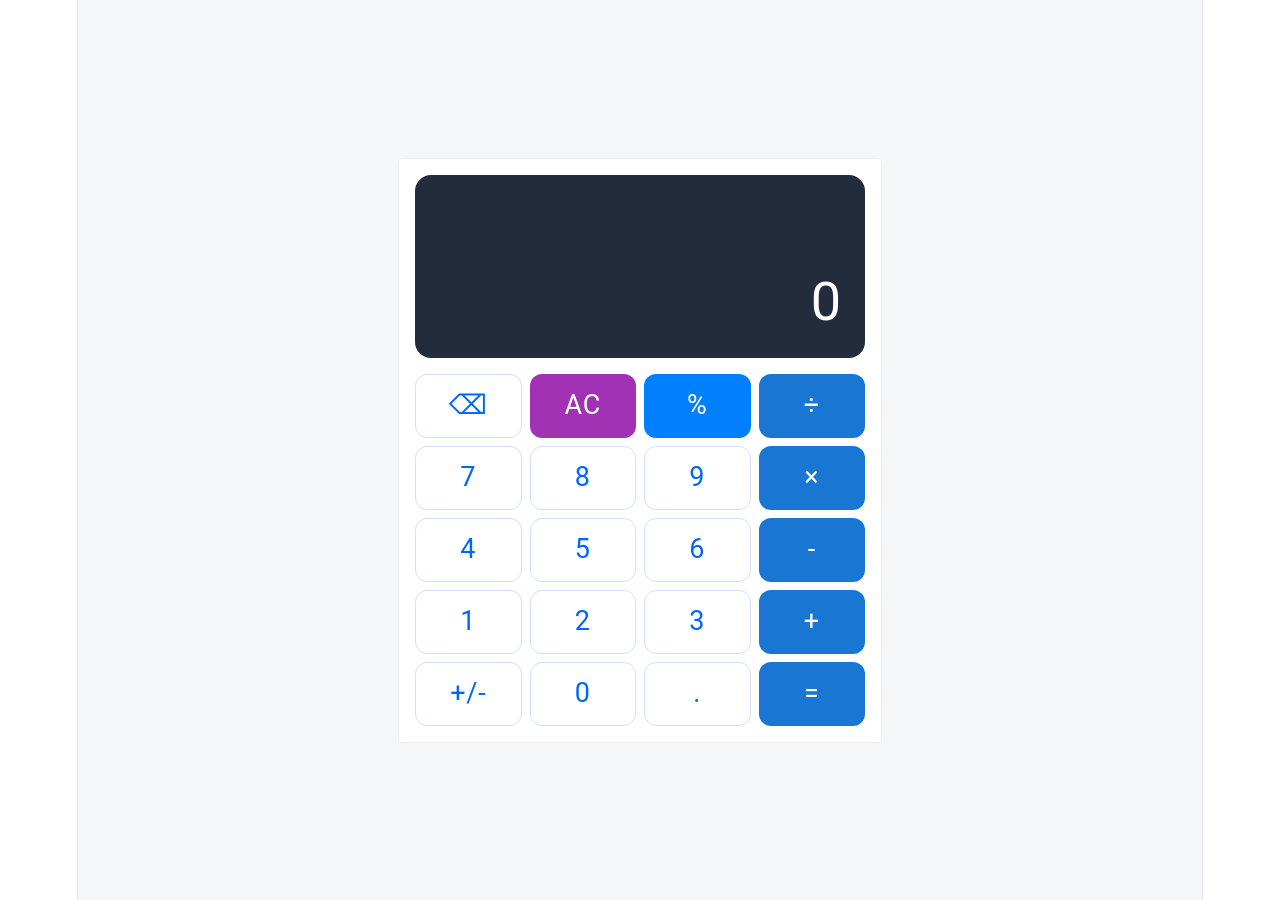
Test case: Calculator App › updates the display when numbers are clicked
Click the button "7" at (468, 478), box [415,446,522,510]
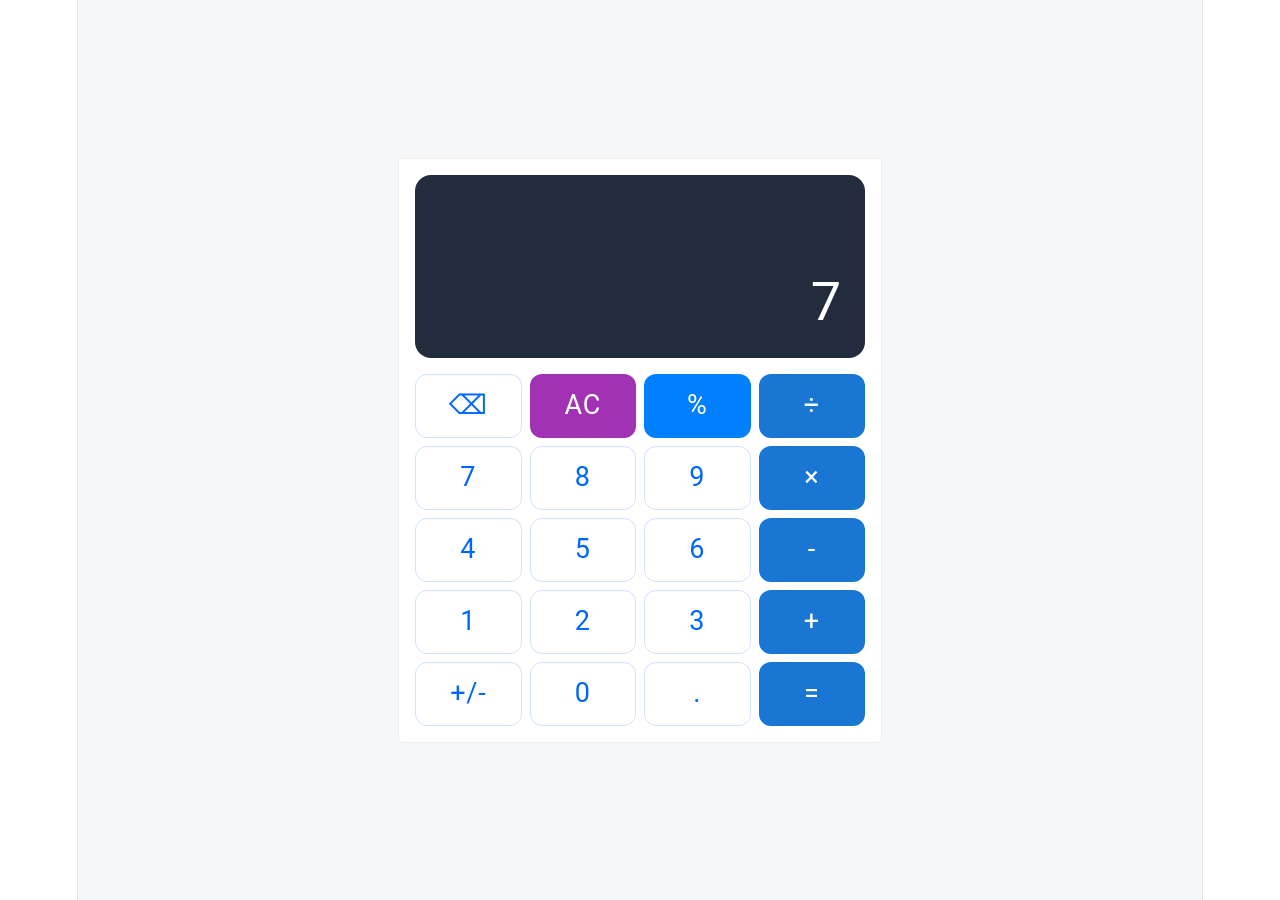
Click the button "8" at (583, 478), box [530,446,636,510]
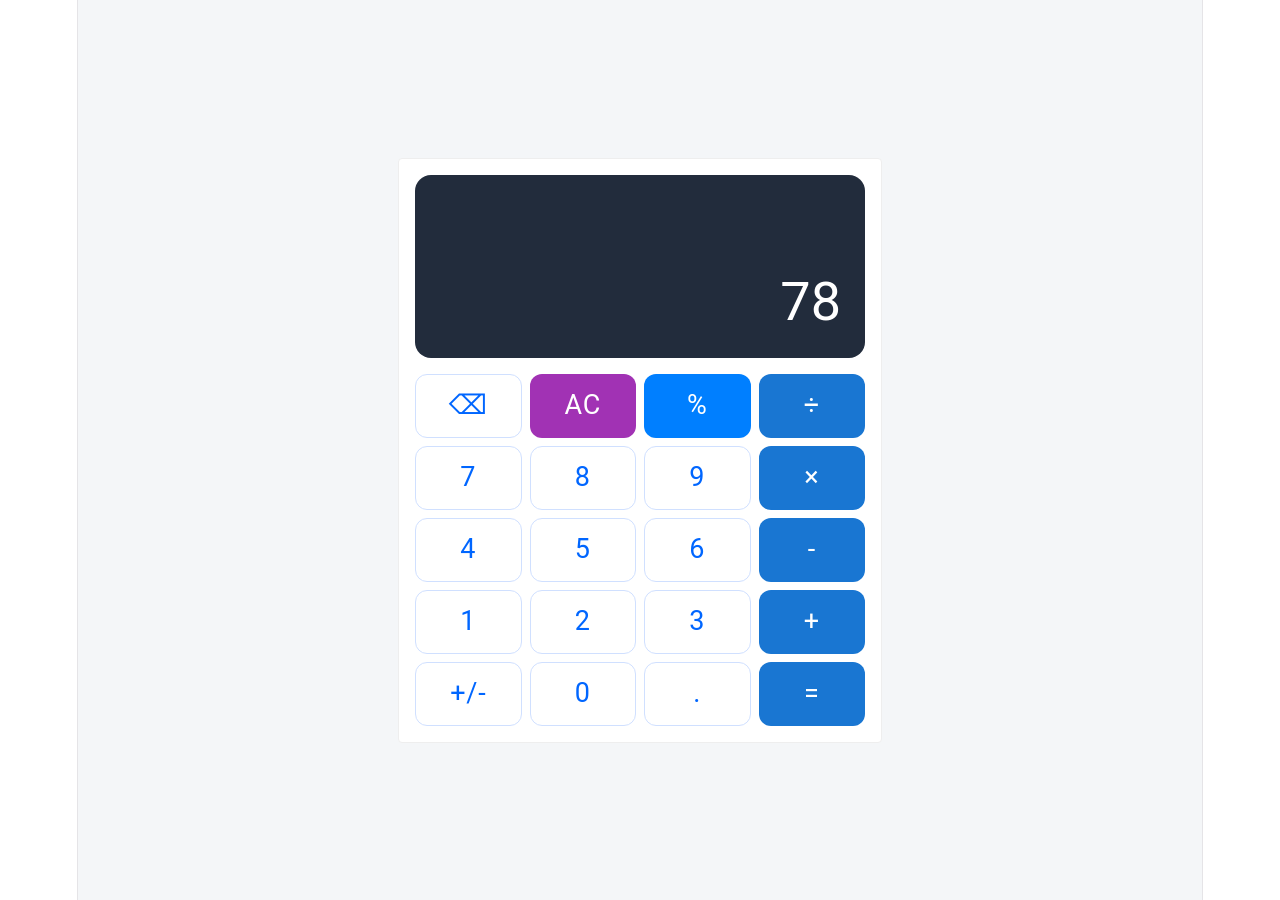
Result: the text "78" is shown at [780,270,841,334]
